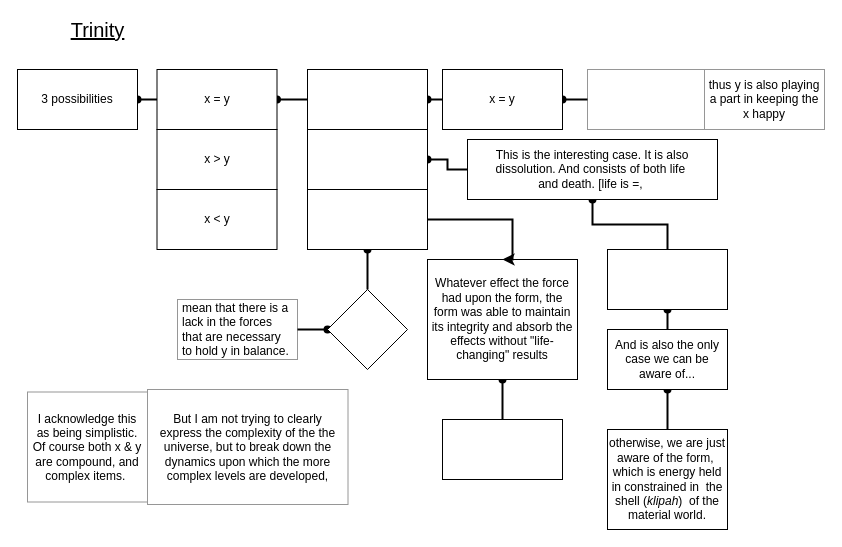
Some shapes in this 842 by 547 pixel diagram are drawn without their labels. Each missing label, with the centre of its shape:
Causes measurable, percievable change...: (x=667, y=279)
Change: (x=367, y=159)
Could also: (x=367, y=329)
means that the forces x, acting upon y are working to keep y in balance.: (x=647, y=99)
Often this case is overlooked, in the glare of Change.: (x=502, y=449)
Retains integrity: (x=367, y=219)
Stasis: (x=367, y=99)
